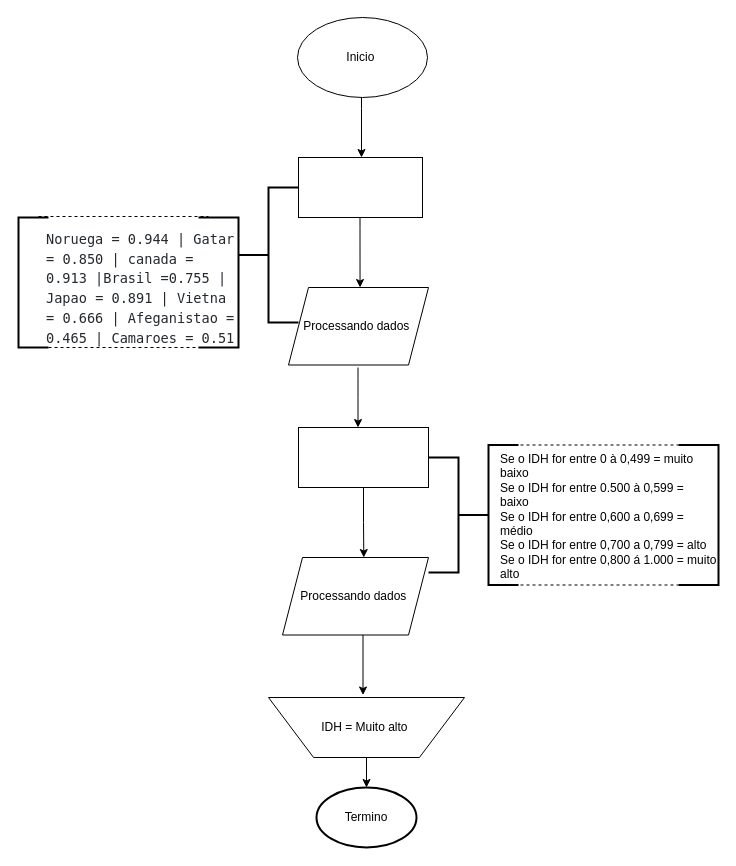
Some shapes in this 736 by 866 pixel diagram are drawn without their labels. Each missing label, with the centre of its shape:
"Canada" goes at point (363, 457).
"Informe um país" goes at point (360, 187).
